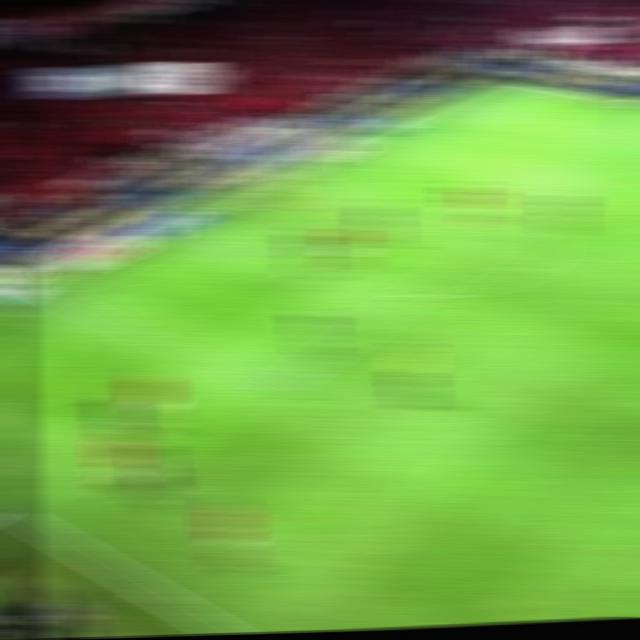bigarea_bottom_inner: (258, 377, 293, 398)
bigarea_bottom_outter: (30, 284, 70, 307)
bigarea_top_inner: (591, 154, 628, 174)
bigarea_top_outter: (408, 116, 444, 130)
bottom_arc_area_intersection: (393, 284, 438, 309)
corner: (486, 83, 522, 91)
smallarea_bottom_inner: (231, 247, 263, 263)
smallarea_bottom_outter: (169, 227, 202, 241)
smallarea_top_inner: (385, 166, 423, 186)
smallarea_top_outter: (330, 151, 363, 166)
top_arc_area_intersection: (514, 211, 548, 226)
